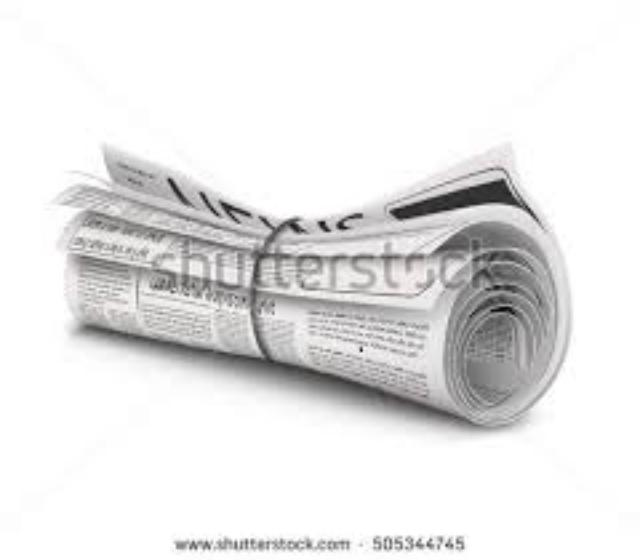cardboard paper: (53, 144, 565, 421)
